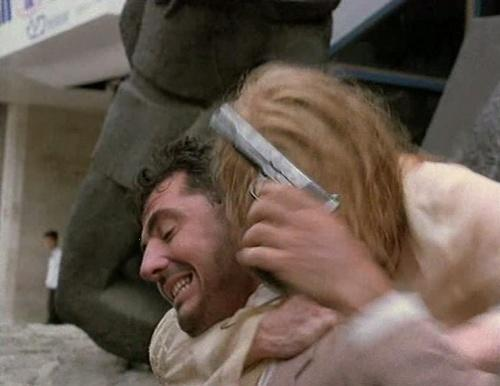Gun: (207, 103, 340, 225)
